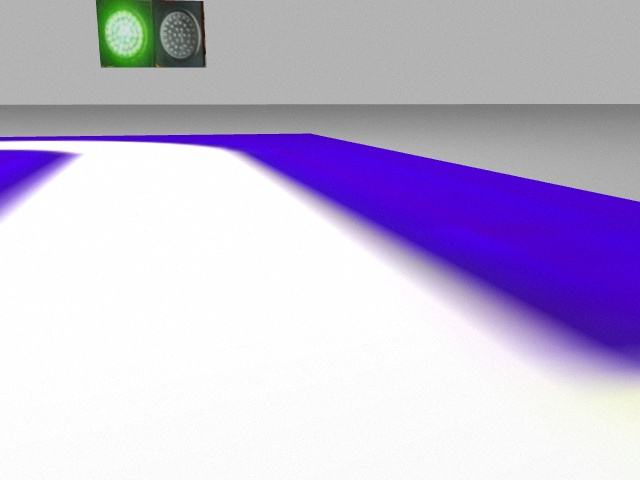green: (95, 1, 156, 67)
